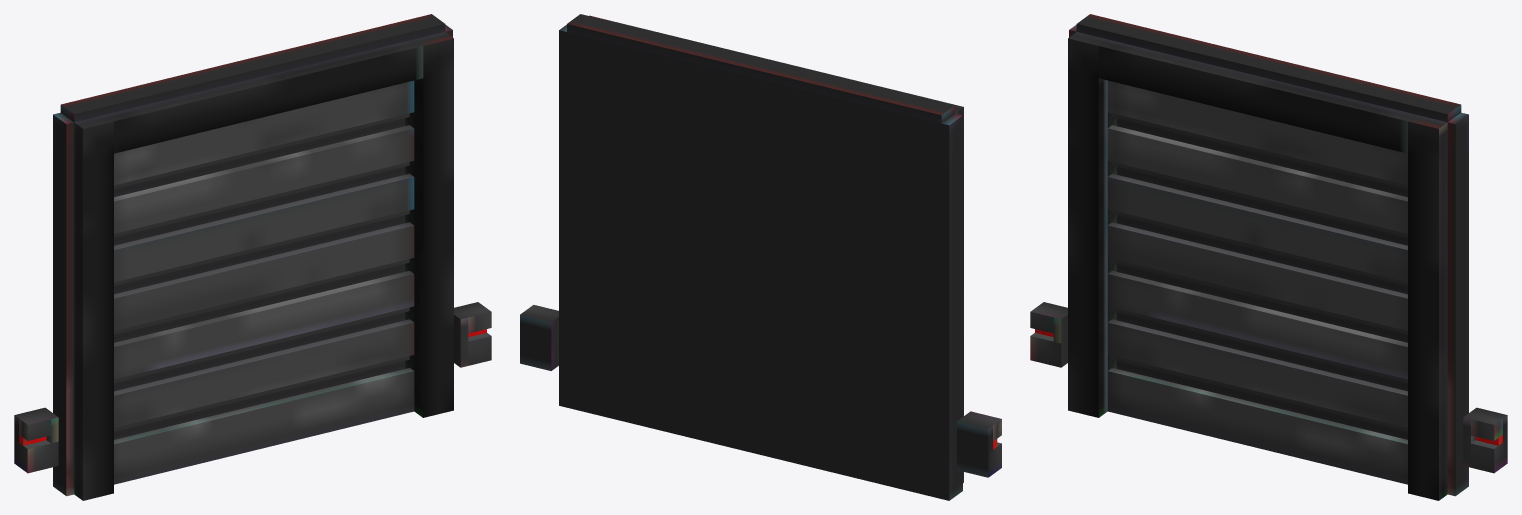
The model's file is GarageDoor_00.fbx.
The picture shows the model from 3 angles, left to right: view 1: azimuth 30°, elevation 25°; view 2: azimuth 150°, elevation 25°; view 3: azimuth 330°, elevation 25°; orthographic projection.
Visible parts, largest first — view 1: GarageDoor_00; view 2: GarageDoor_00; view 3: GarageDoor_00.
Boxes of the visible parts, x1,y1,x2,y2 form: GarageDoor_00: (14, 14, 491, 500); GarageDoor_00: (520, 14, 1001, 500); GarageDoor_00: (1030, 14, 1507, 500).
Size of the model in its own units: 300 by 235 by 25.
